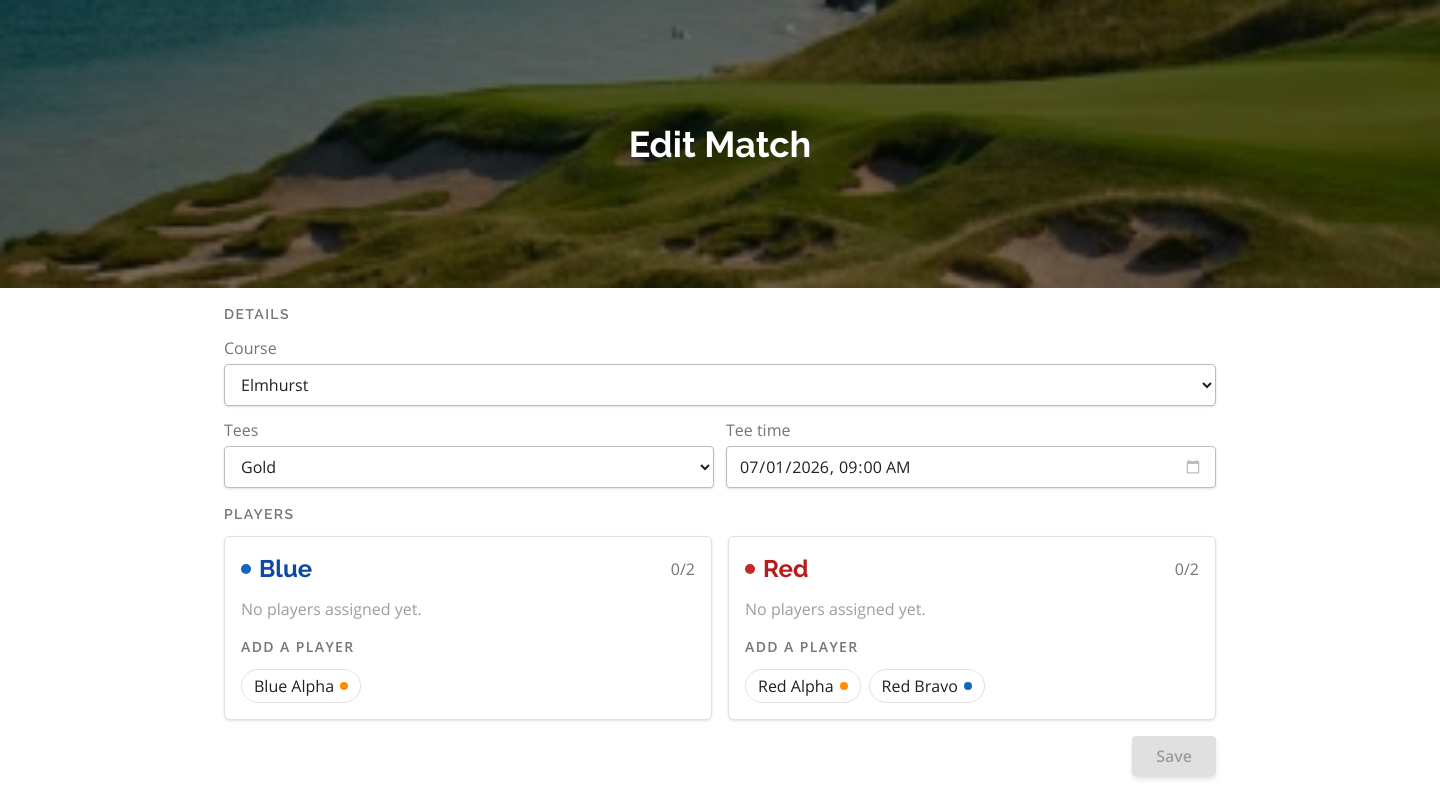
AdminMatchLineupView › takes a named player out of the choices while the side has room
Click the button "Red Alpha": (803, 686) [745, 669, 860, 703]
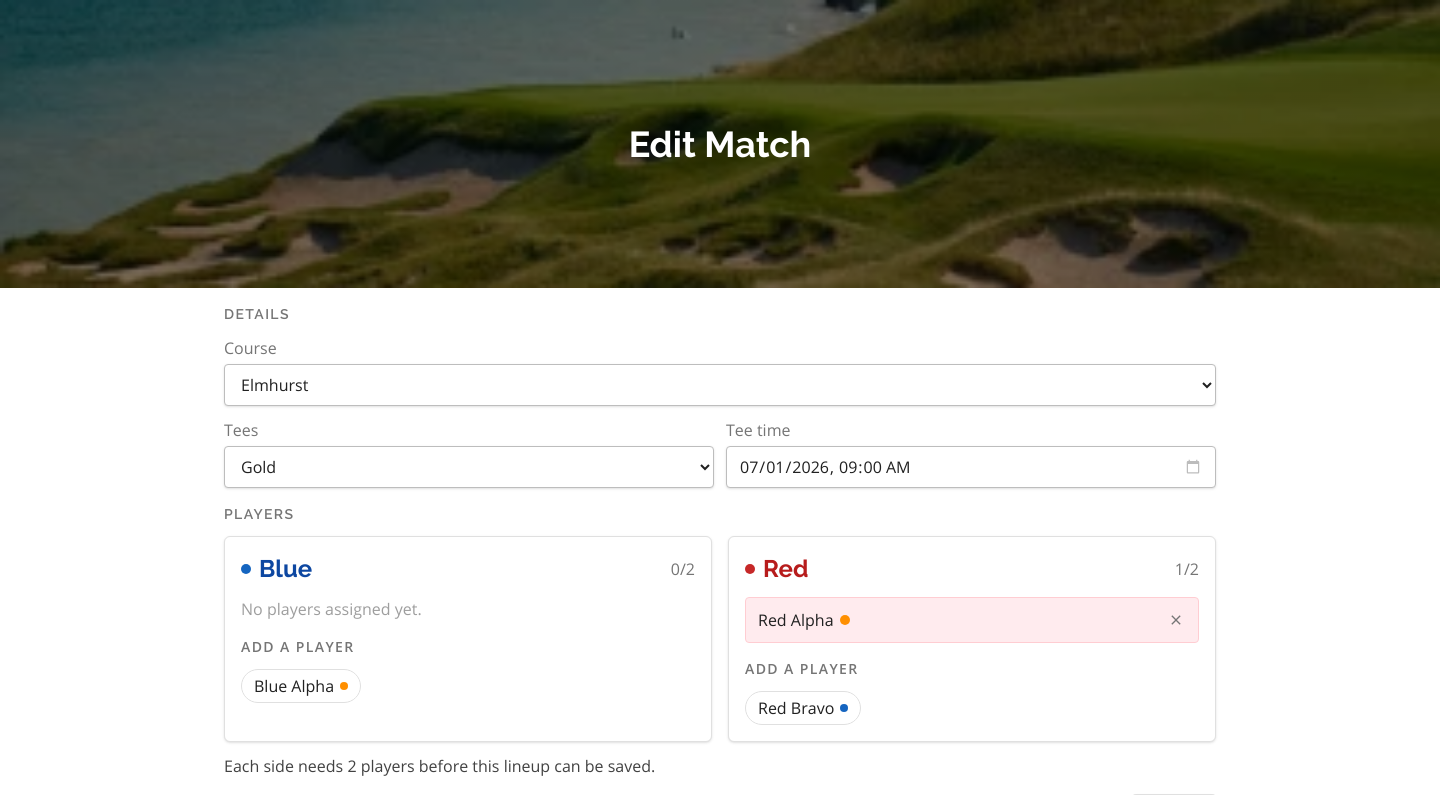
Expected: the button "Red Bravo" is shown, [745, 691, 861, 725]
Now the text "1/2" is shown, box [1175, 557, 1199, 581]
